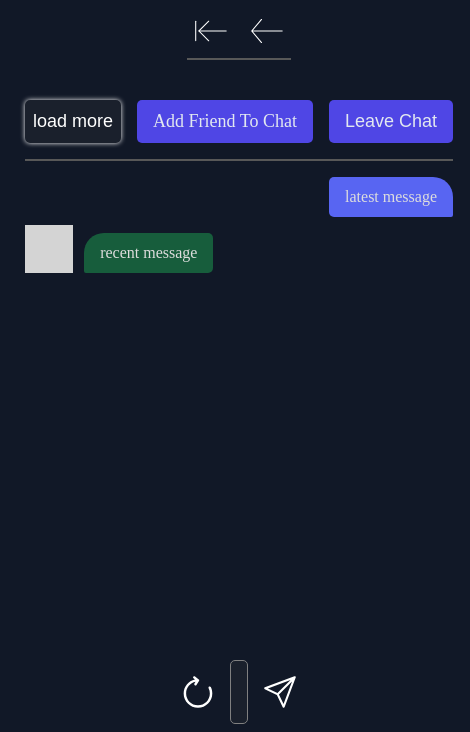
Test: Message component › loads the initial conversation, then loads older messages and newer messages correctly
This screenshot has width=470, height=732.
Check: the text "latest message" is shown, box [345,188,437,205]
Click the button "load more".
click(73, 122)  # box [25,100,121,143]
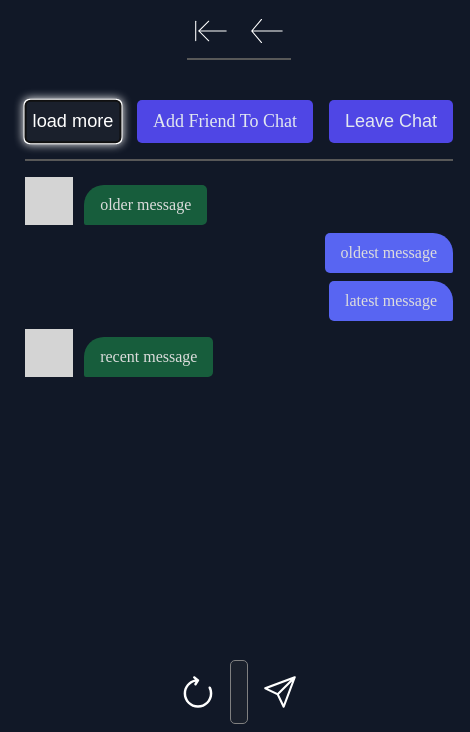
Check: the text "oldest message" is shown, box [341,244,437,261]
Click the picture named "refresh messages".
click(198, 692)  # box [174,668,222,716]
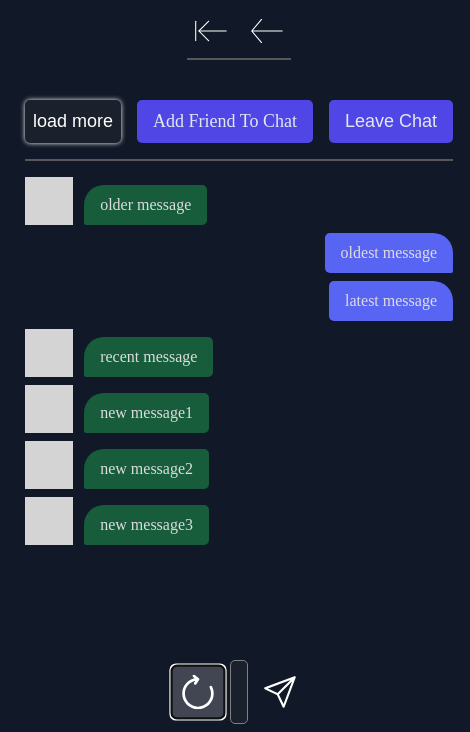
Check: the text "new message1" is shown, box [100,404,193,421]
